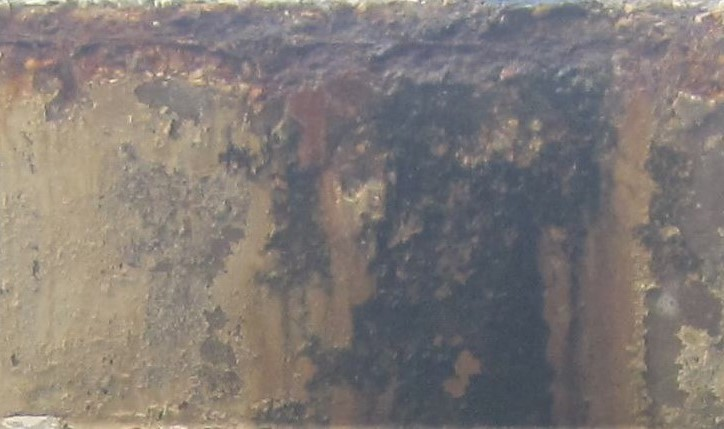Corrosion: (1, 1, 724, 429)
Exposed reinforcement: (1, 36, 557, 71)
